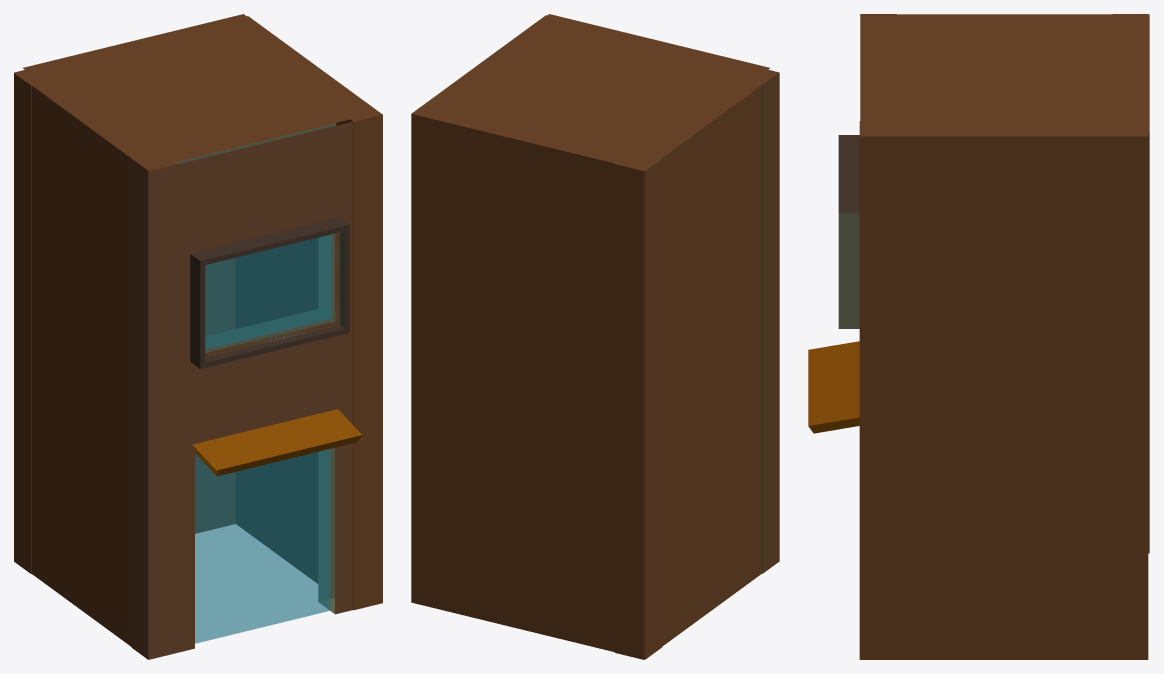
The model's file is bangunan 3.fbx.
3 views of the same model, side by side, from view 1: azimuth 30°, elevation 25°; view 2: azimuth 150°, elevation 25°; view 3: azimuth 270°, elevation 25° (orthographic). The views are drawn at different scales.
Visible parts, largest first — view 1: polySurface5, pCube5, pPlane1, pCube4, polySurface4, pCube6, polySurface6; view 2: pCube6, pCube5, pPlane1, pCube4, polySurface5; view 3: pCube4, pPlane1, polySurface5, pCube5.
Part boxes in pixels (x1,y1,x2,y2): polySurface5: (131, 121, 361, 659); pCube5: (14, 70, 177, 646); pPlane1: (23, 14, 377, 166); pCube4: (236, 16, 382, 609); polySurface4: (195, 449, 330, 643); pCube6: (14, 16, 260, 573); polySurface6: (205, 234, 331, 349); pCube6: (424, 115, 662, 659); pCube5: (615, 70, 778, 659); pPlane1: (415, 14, 769, 166); pCube4: (411, 15, 546, 609); polySurface5: (762, 70, 779, 573); pCube4: (859, 121, 1148, 659); pPlane1: (860, 16, 1149, 131); polySurface5: (808, 14, 896, 433); pCube5: (861, 14, 1149, 553).
Size of the model in its own units: 8.02 by 16.08 by 9.46.
